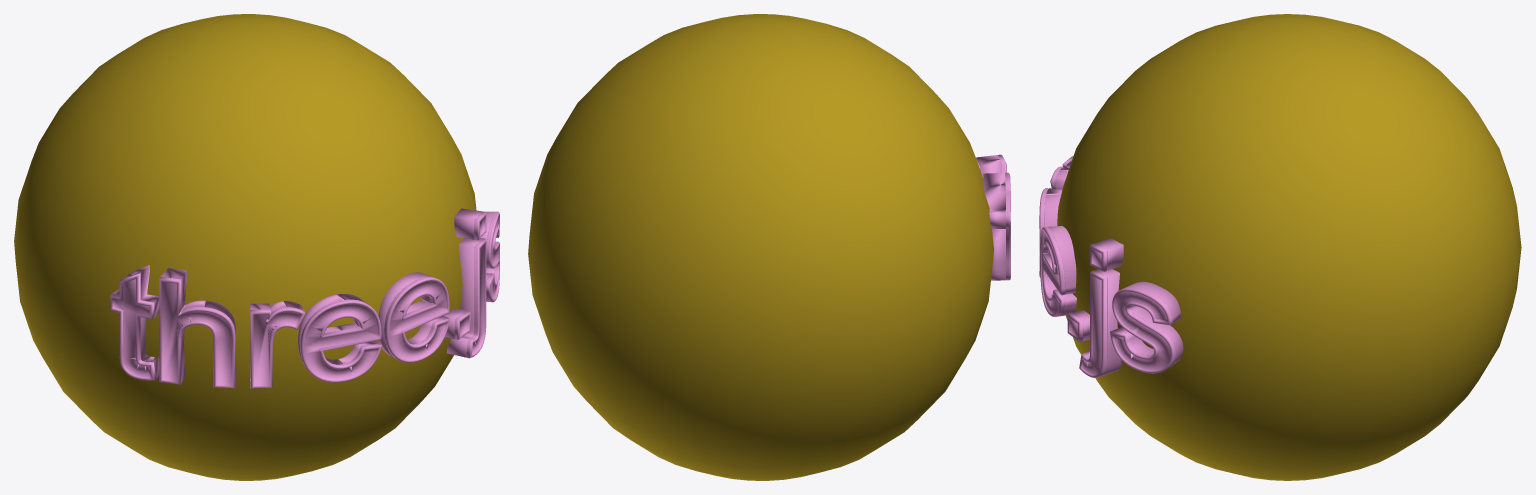
The model's file is threejs.obj.
3 views of the same model, side by side, from view 1: azimuth 30°, elevation 25°; view 2: azimuth 150°, elevation 25°; view 3: azimuth 270°, elevation 25° (orthographic).
Parts seen in each view (by area): view 1: Sphere001, TextPlus001; view 2: Sphere001, TextPlus001; view 3: Sphere001, TextPlus001.
Part boxes in pixels (x1=…): Sphere001: x1=14, y1=14, x2=476, y2=480; TextPlus001: x1=110, y1=208, x2=499, y2=388; Sphere001: x1=528, y1=14, x2=993, y2=480; TextPlus001: x1=976, y1=154, x2=1010, y2=280; Sphere001: x1=1057, y1=14, x2=1521, y2=480; TextPlus001: x1=1039, y1=156, x2=1183, y2=377.
Bounding box in the file's own units: 69.51 × 69.51 × 71.68.
